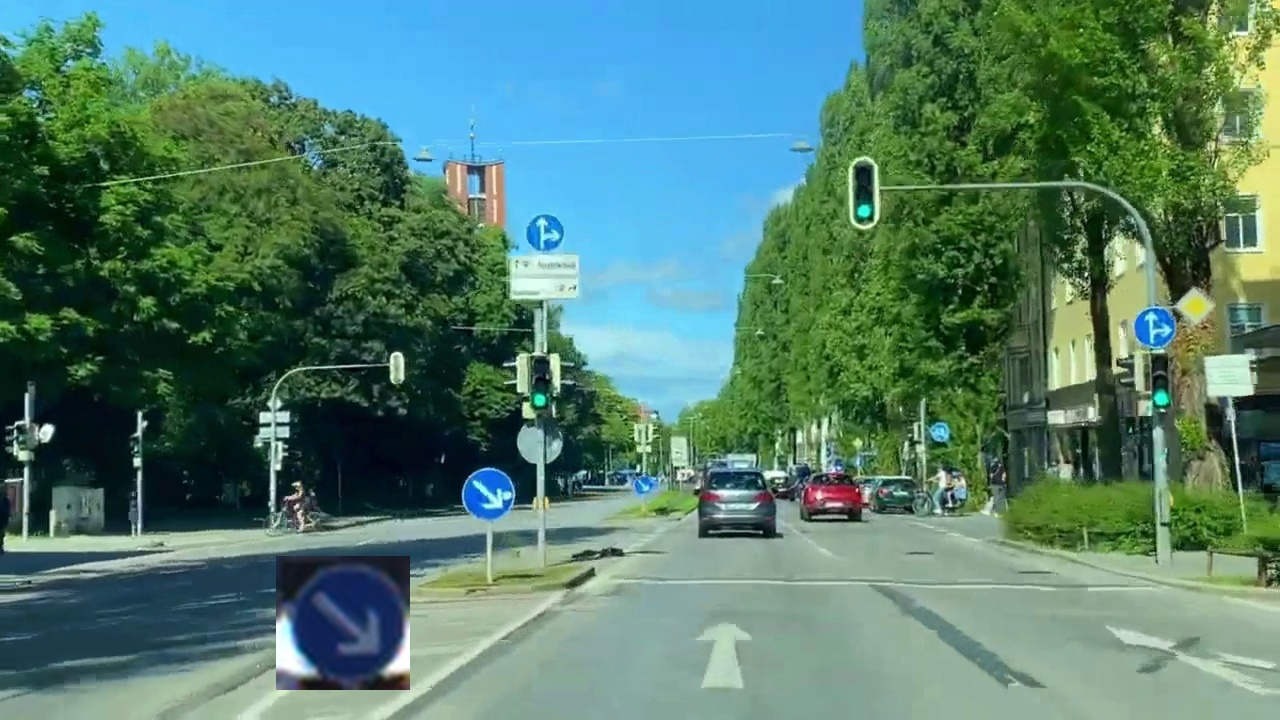Keep right: (276, 556, 410, 690)
